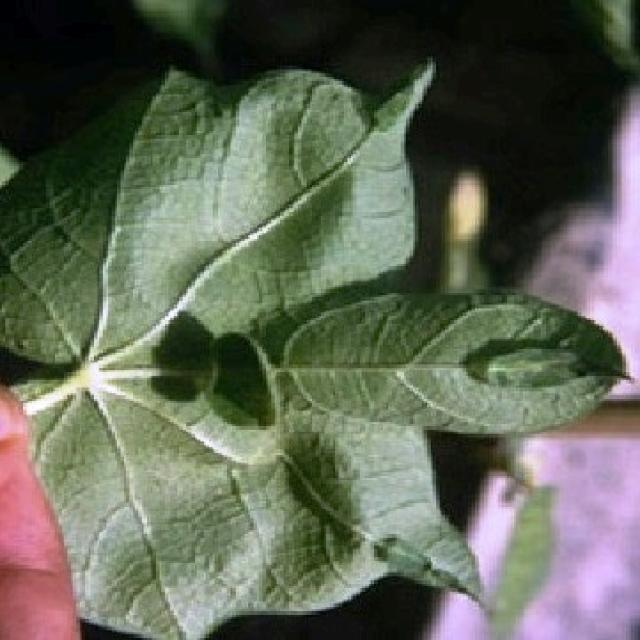Leaf Curl Virus: (95, 159, 572, 508)
